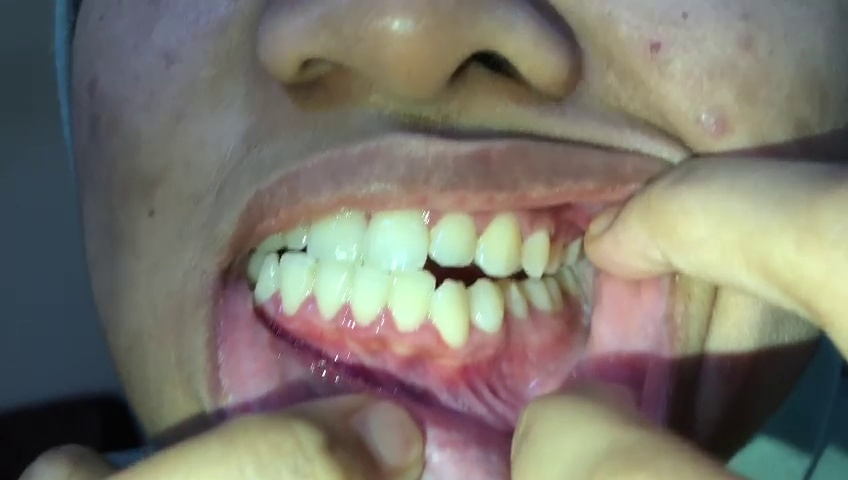1st Molar: (522, 274, 551, 316), (565, 231, 584, 272)
1st Premolar: (464, 277, 505, 335), (521, 228, 550, 277)
2nd Molar: (544, 277, 563, 314)
2nd Premolar: (500, 279, 528, 323), (546, 227, 564, 277)
3rd Molar: (558, 271, 584, 297)
Canine: (477, 214, 524, 281), (434, 278, 469, 350), (250, 248, 281, 311)
Central Incisor: (363, 201, 427, 271), (307, 205, 367, 265), (352, 266, 388, 329), (312, 262, 350, 320)
Lateral Incisor: (427, 208, 476, 267), (388, 269, 433, 331), (278, 249, 311, 317)
